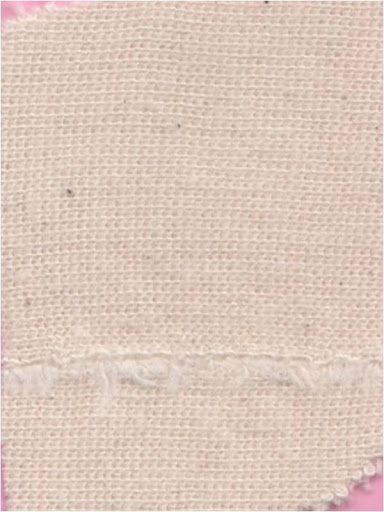Hole: (2, 311, 384, 414)
